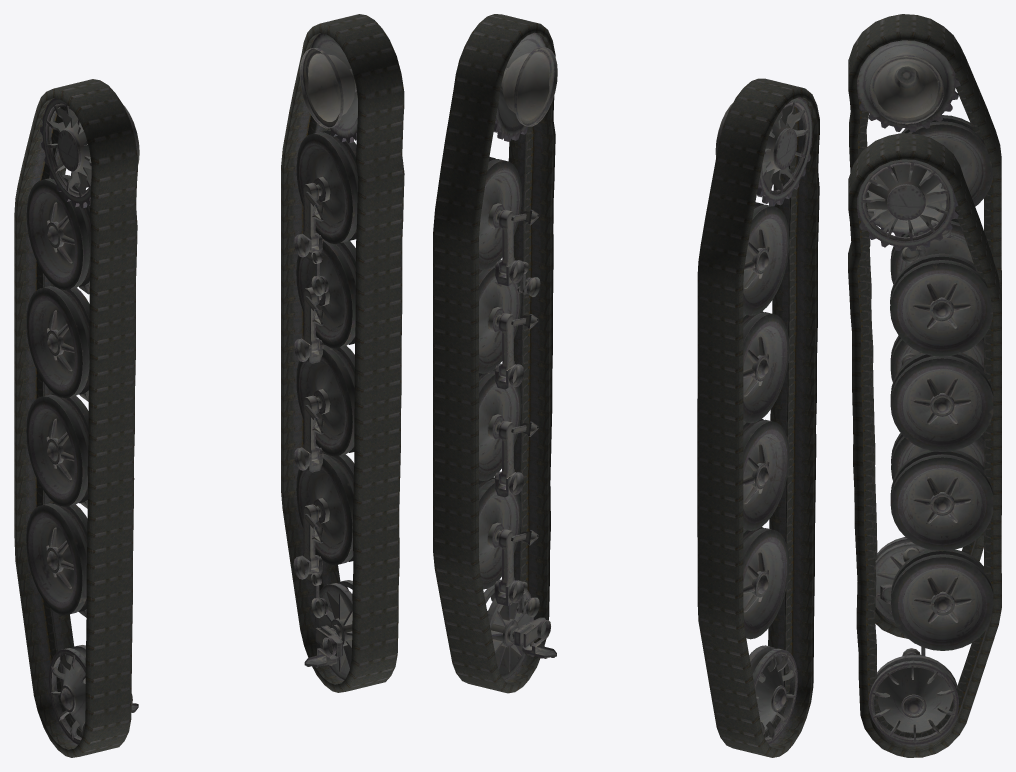
The model's file is Chassis.glb.
3 views of the same model, side by side, from view 1: azimuth 30°, elevation 25°; view 2: azimuth 150°, elevation 25°; view 3: azimuth 270°, elevation 25° (orthographic). The views are drawn at different scales.
Visible parts, largest first — view 1: set_3_group_0, set_2_group_0, set_0_group_0, set_1_group_0; view 2: set_3_group_0, set_2_group_0, set_0_group_0, set_1_group_0; view 3: set_0_group_0, set_2_group_0, set_1_group_0, set_3_group_0.
Part boxes in pixels (<box>): set_3_group_0: <box>14,79,137,757</box>; set_2_group_0: <box>281,14,404,692</box>; set_0_group_0: <box>293,33,358,679</box>; set_1_group_0: <box>26,98,139,744</box>; set_3_group_0: <box>697,78,819,757</box>; set_2_group_0: <box>433,14,555,693</box>; set_0_group_0: <box>479,32,557,680</box>; set_1_group_0: <box>715,97,812,744</box>; set_0_group_0: <box>857,159,993,744</box>; set_2_group_0: <box>848,133,1001,757</box>; set_1_group_0: <box>857,40,993,621</box>; set_3_group_0: <box>848,14,1001,638</box>.
Size of the model in its own units: 2.13 by 4.36 by 1.
4 materials, 4 textured.
